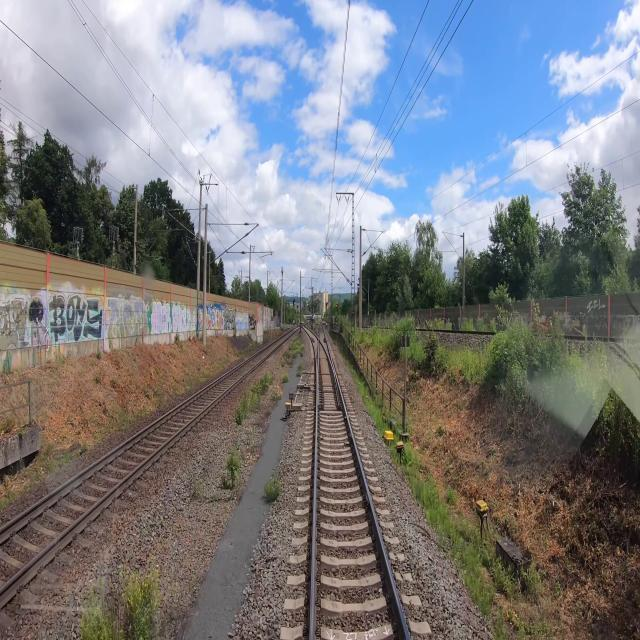Plant: (79, 553, 162, 639), (235, 369, 273, 425), (221, 445, 241, 489), (280, 338, 304, 368), (263, 473, 282, 503), (271, 384, 283, 401), (296, 362, 304, 376), (283, 370, 290, 382)
